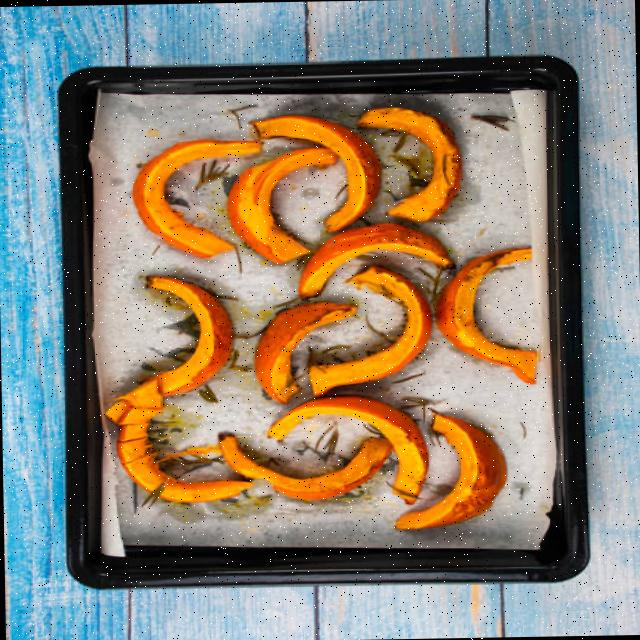pumpkin: (104, 284, 245, 498), (271, 401, 427, 501), (233, 145, 335, 261), (222, 433, 387, 498), (254, 300, 360, 398)
